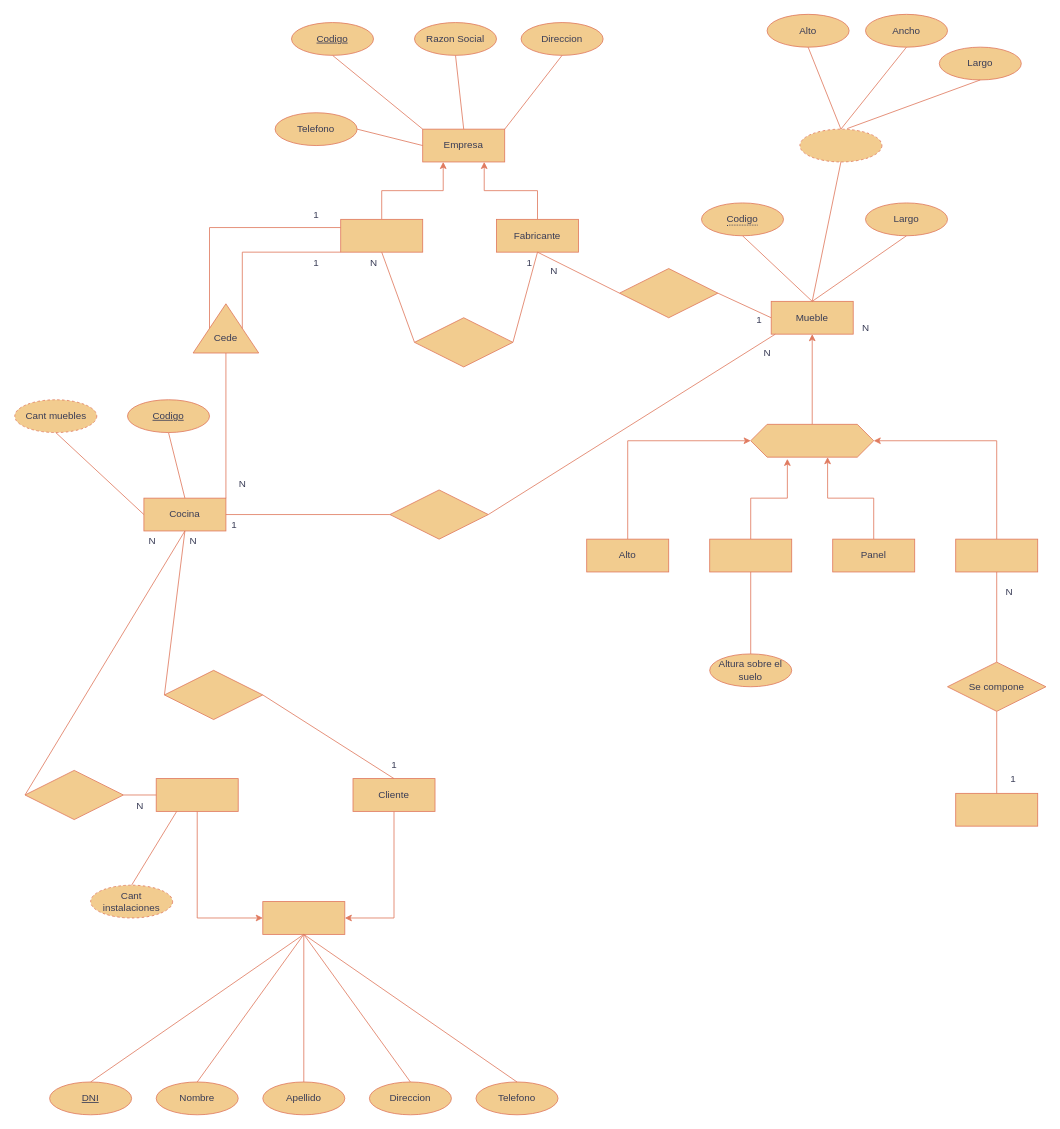
This 1060x1129 diagram has some shape labels left out. Each missing label, with the centre of its shape:
"Bajo" belongs at (750,555).
"Categoria" belongs at (812,440).
"Compra" belongs at (213,695).
"Contiene" belongs at (438,514).
"Dimension" belongs at (840,145).
"Distribuidor" belongs at (381,235).
"Fabrica" belongs at (668,293).
"Instala" belongs at (73,795).
"Instalador" belongs at (196,794).
"Material" belongs at (996,809).
"Mesada" belongs at (996,555).
"Persona" belongs at (303,917).
"Trabaja con" belongs at (463,342).
